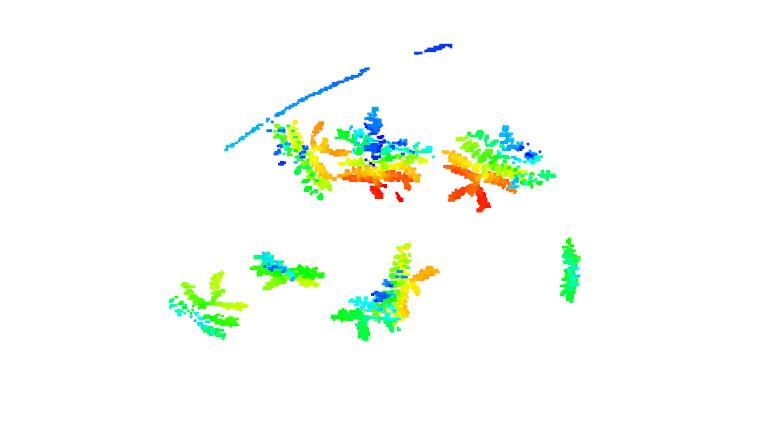chickpea: (329, 237, 440, 345), (440, 121, 560, 217), (329, 106, 435, 200), (266, 115, 345, 204), (166, 268, 254, 341), (247, 245, 330, 292), (552, 234, 586, 305)
